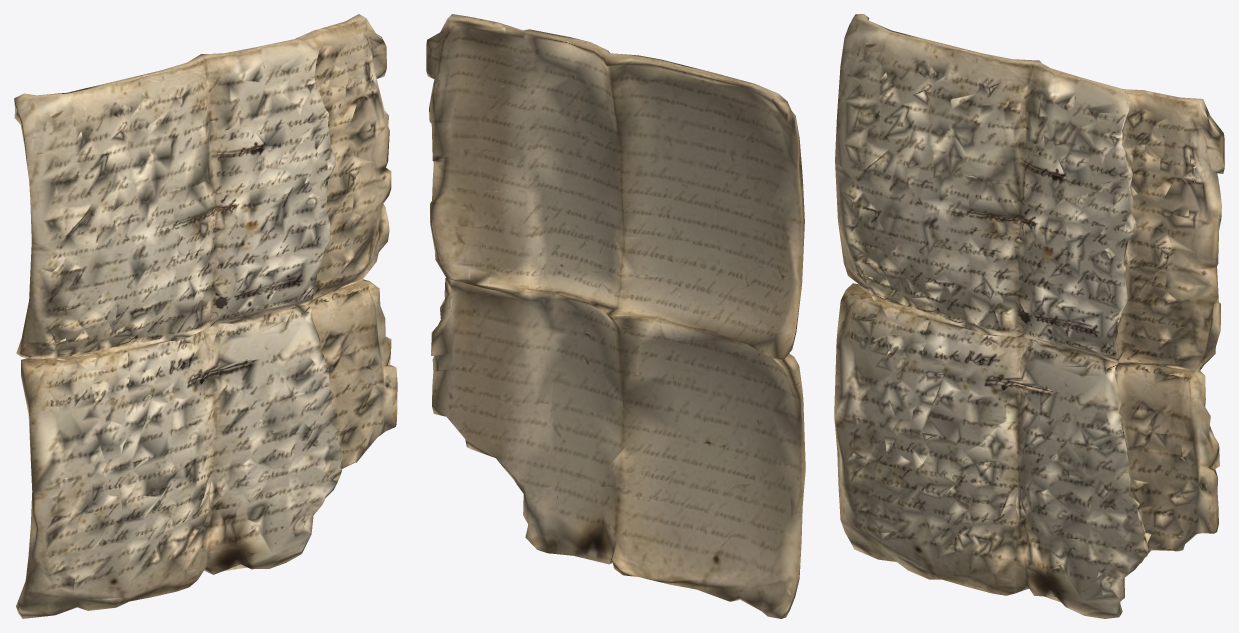
The model's file is note.387d1475.glb.
The picture shows the model from 3 angles, left to right: view 1: azimuth 30°, elevation 25°; view 2: azimuth 150°, elevation 25°; view 3: azimuth 330°, elevation 25°; orthographic projection. The views are drawn at different scales.
Size of the model in its own units: 1.4 by 1.9 by 0.1767.
1 material, 1 textured.
